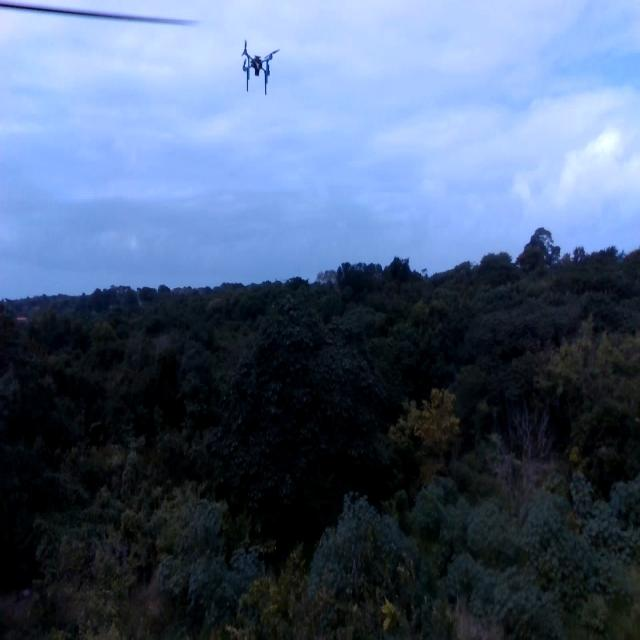-uav-: (235, 36, 279, 96)
